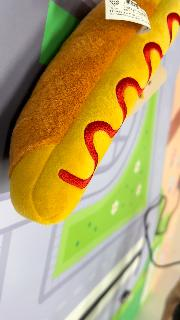hotdog: (9, 2, 180, 226)
